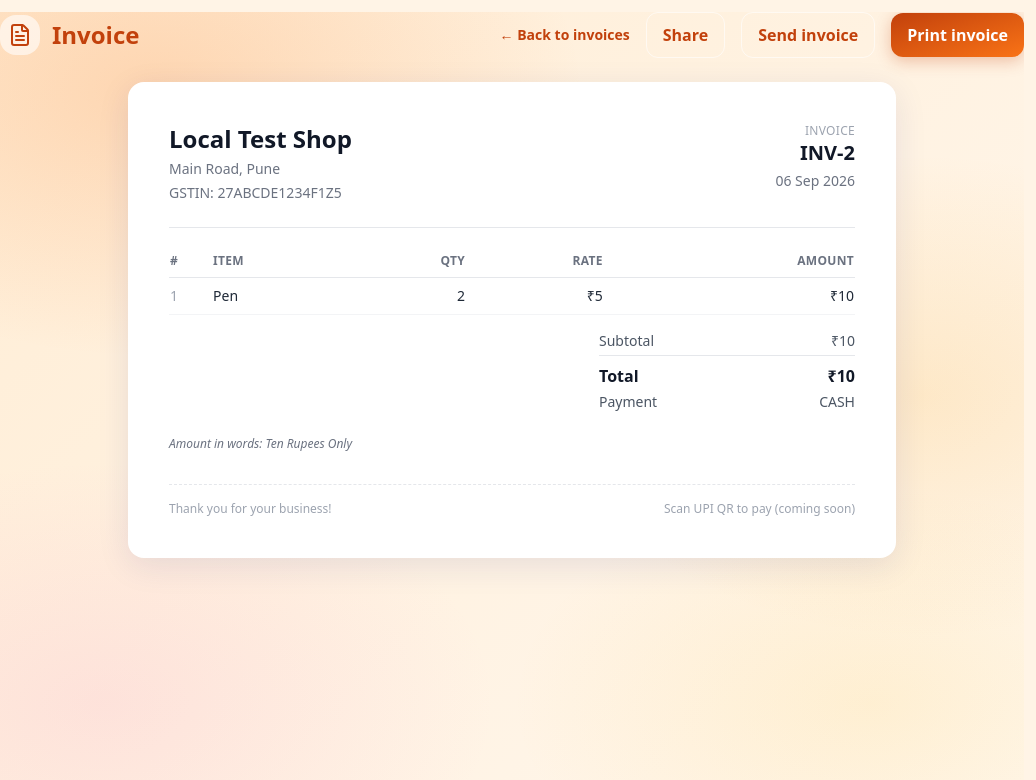
InvoiceDetail page › falls back to clipboard copy when Web Share is unavailable
The image size is (1036, 780).
Check: the text "INV-2" is shown, box [800, 139, 855, 166]
Click the button "Share".
click(686, 35)  # box [646, 12, 725, 58]
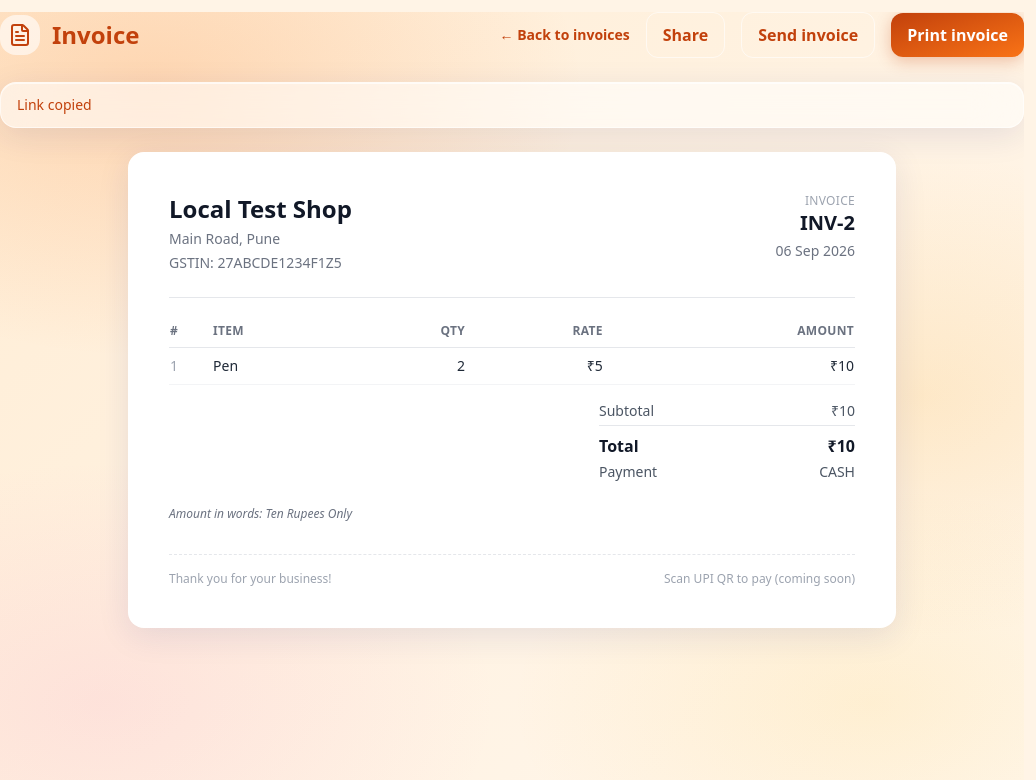
Check: the text "Link copied" is shown, box [0, 82, 1024, 128]
